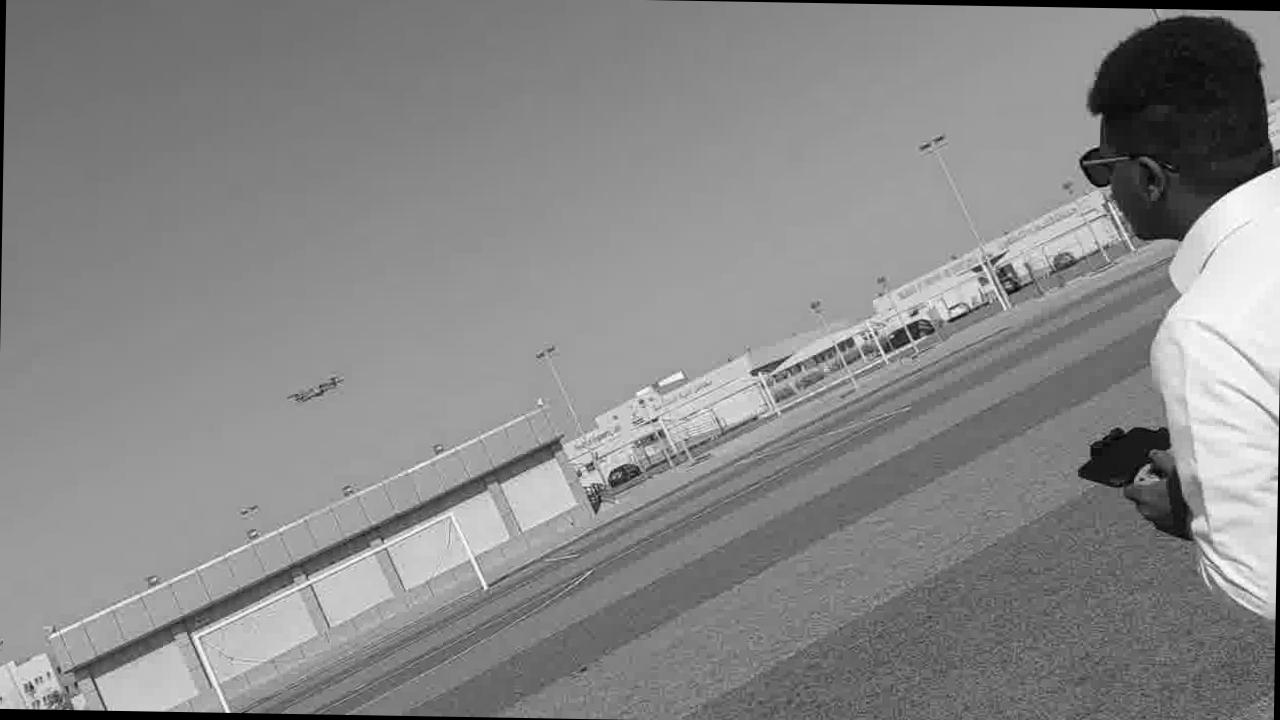drone: (276, 364, 349, 419)
